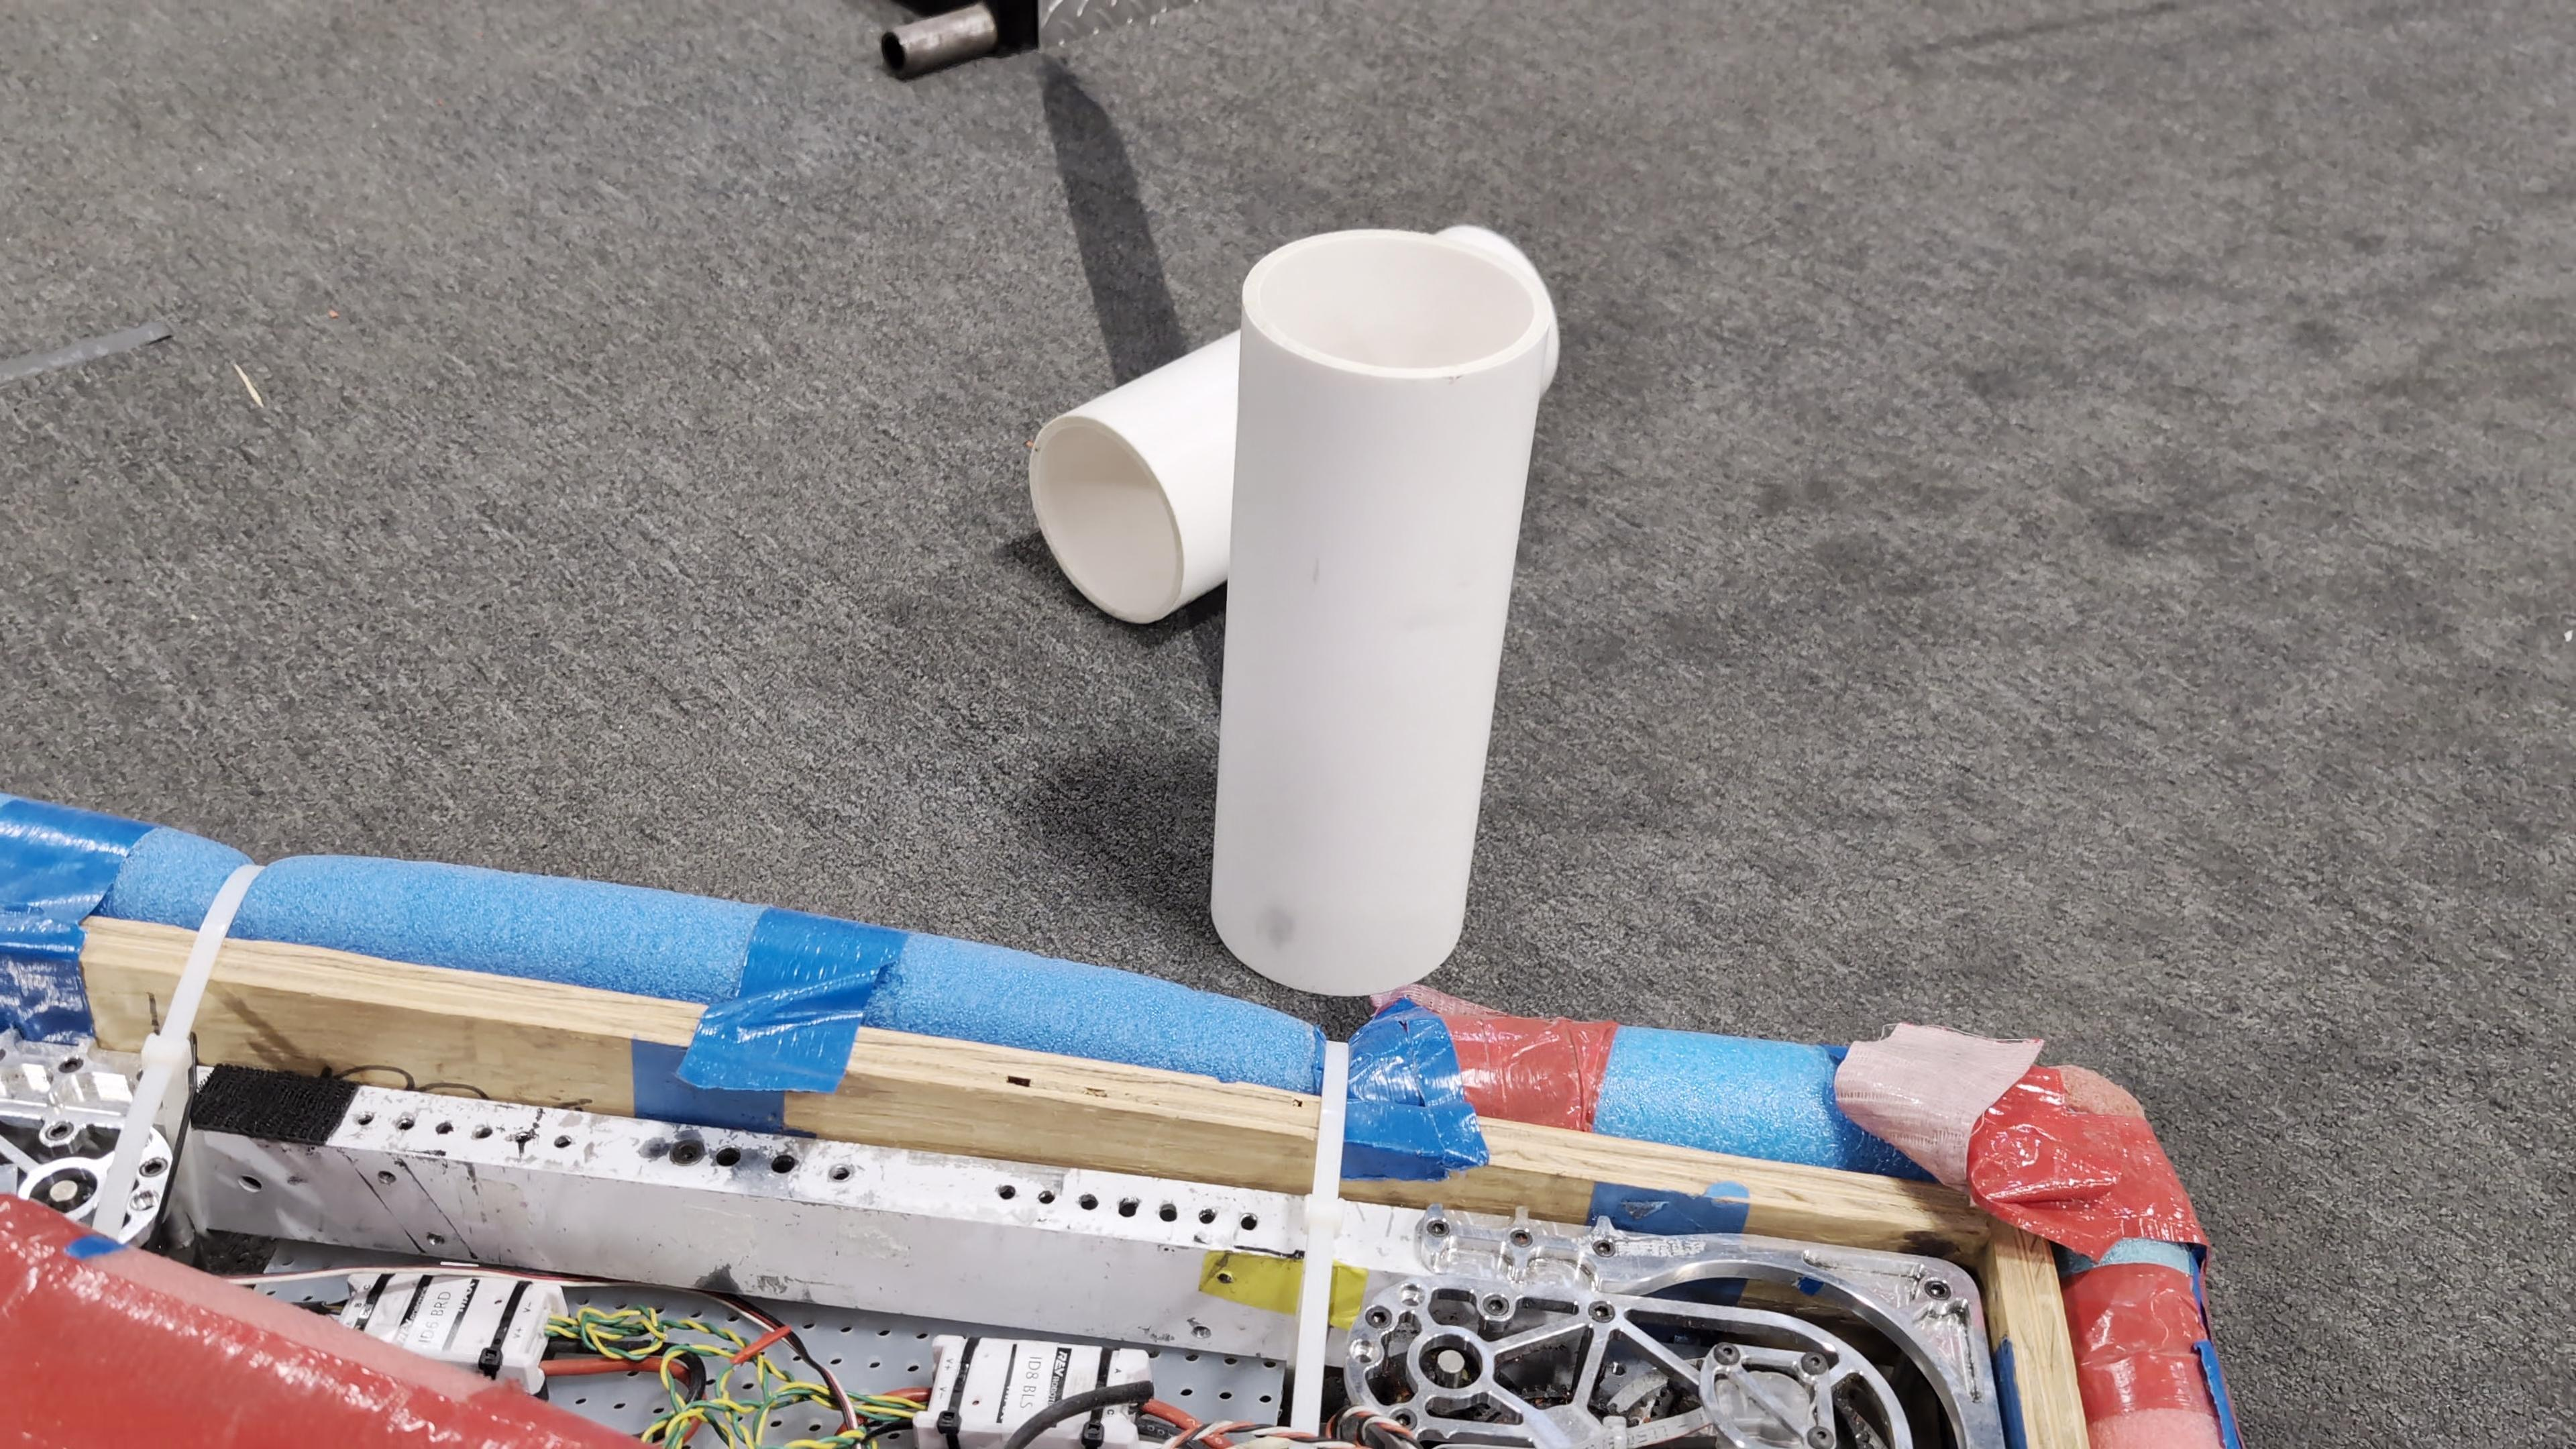coral: (1203, 218, 1562, 996)
